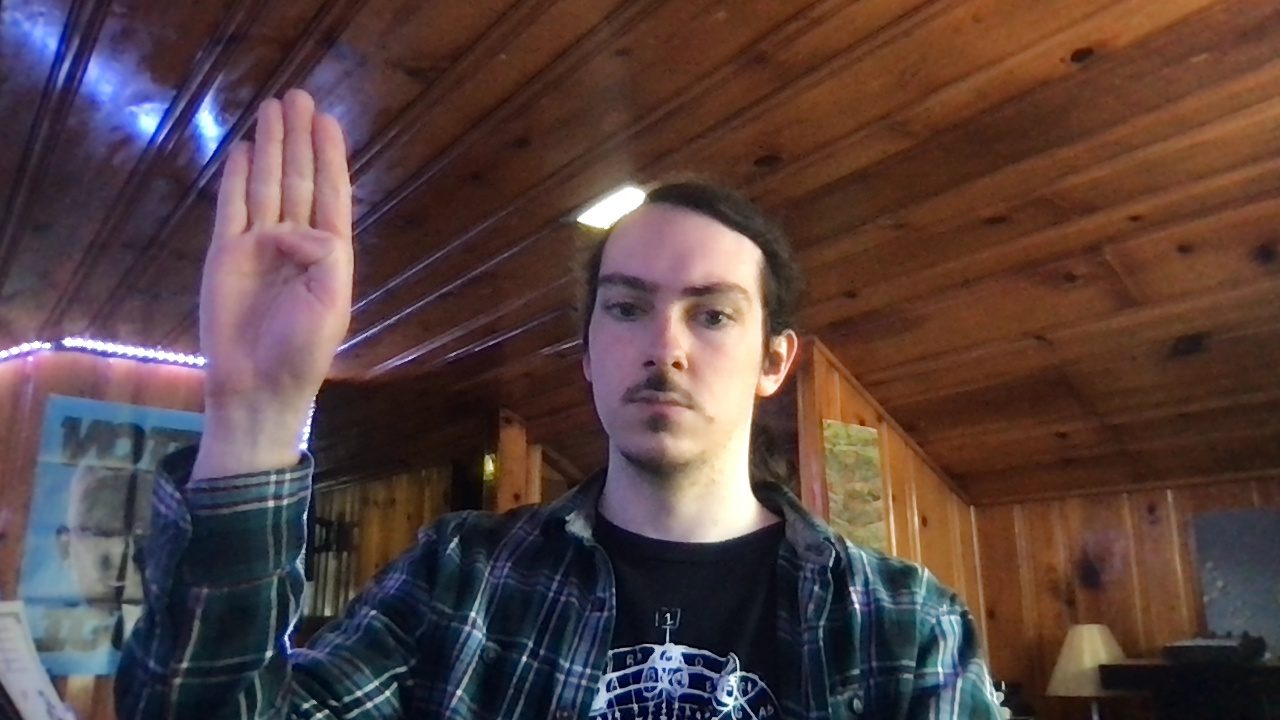b: (195, 86, 358, 394)
